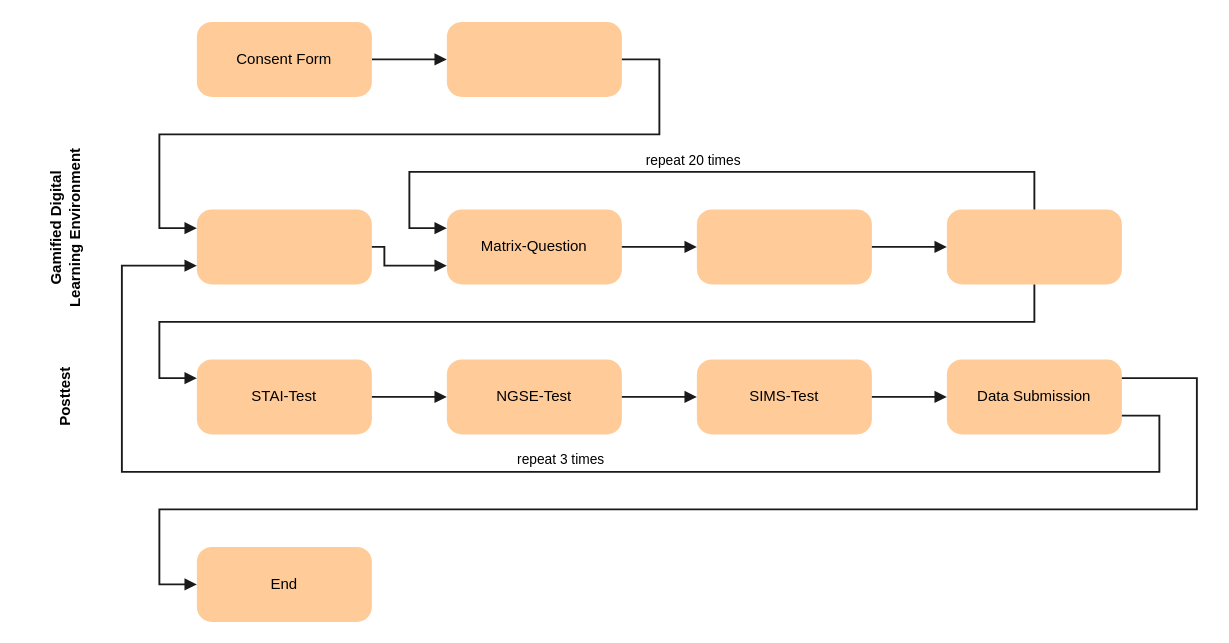
Image size: 1229x643. Some labels were removed from this diagram. The shapes that lost their labels are listed below. From the top down, each one's centre as x and y in pixels, then its label:
At pixel 533 58: "Demographic Data".
At pixel 283 246: "Set of Gamified Elements".
At pixel 783 246: "Show immediate Feedback Toast".
At pixel 1033 246: "Narrated Content, Update Score, Leaderboard Placement".
